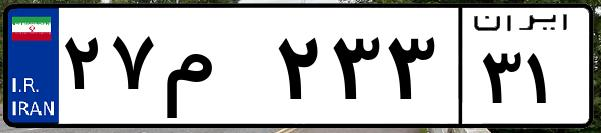1: (525, 38, 570, 115)
2: (270, 28, 330, 110), (57, 26, 110, 100)
3: (385, 28, 445, 110), (330, 28, 385, 110), (475, 38, 525, 113)
7: (110, 28, 158, 98)
م: (158, 20, 270, 120)
